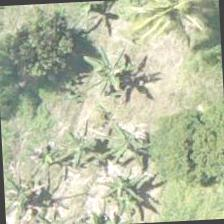Kelapa_Sawit: (135, 0, 221, 46)
